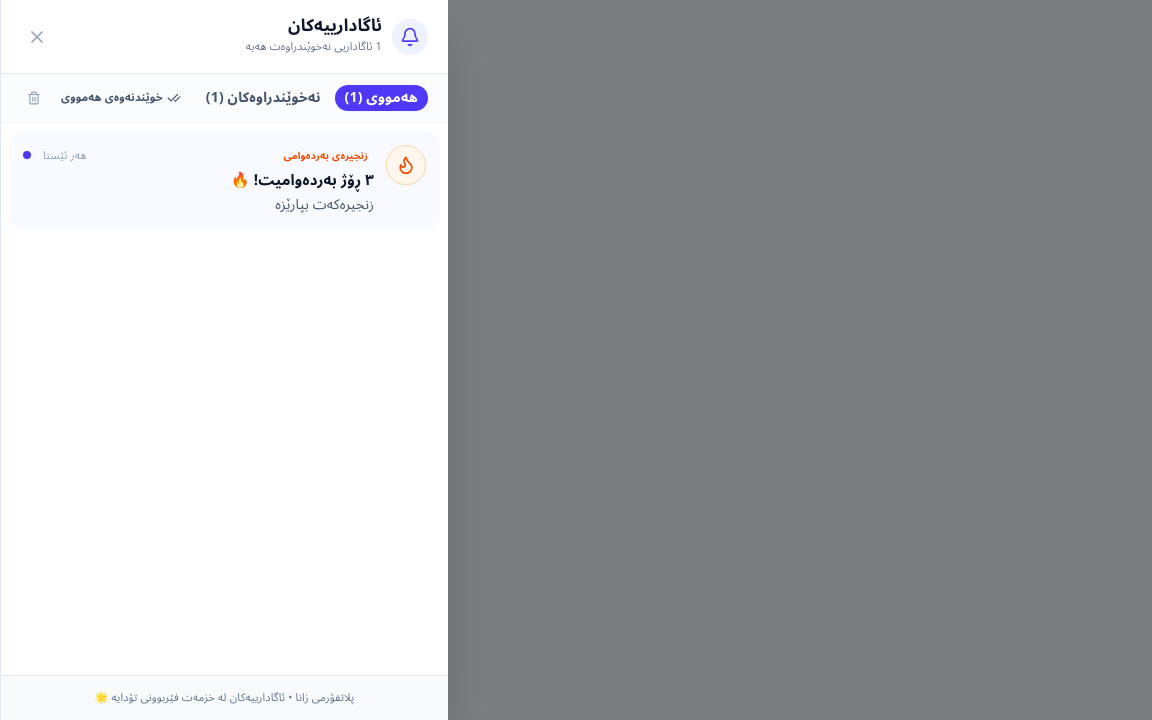
Test: ZANA Engagement UI Components › NotificationCenter Component › supports marking all notifications as read
The image size is (1152, 720).
Check: the heading "٣ ڕۆژ بەردەوامیت! 🔥" is shown, box x1=231 y1=164 x2=374 y2=196
Note: Mark all as read button
Click the button "خوێندنەوەی هەمووی" at (121, 98), box x1=53 y1=84 x2=189 y2=112
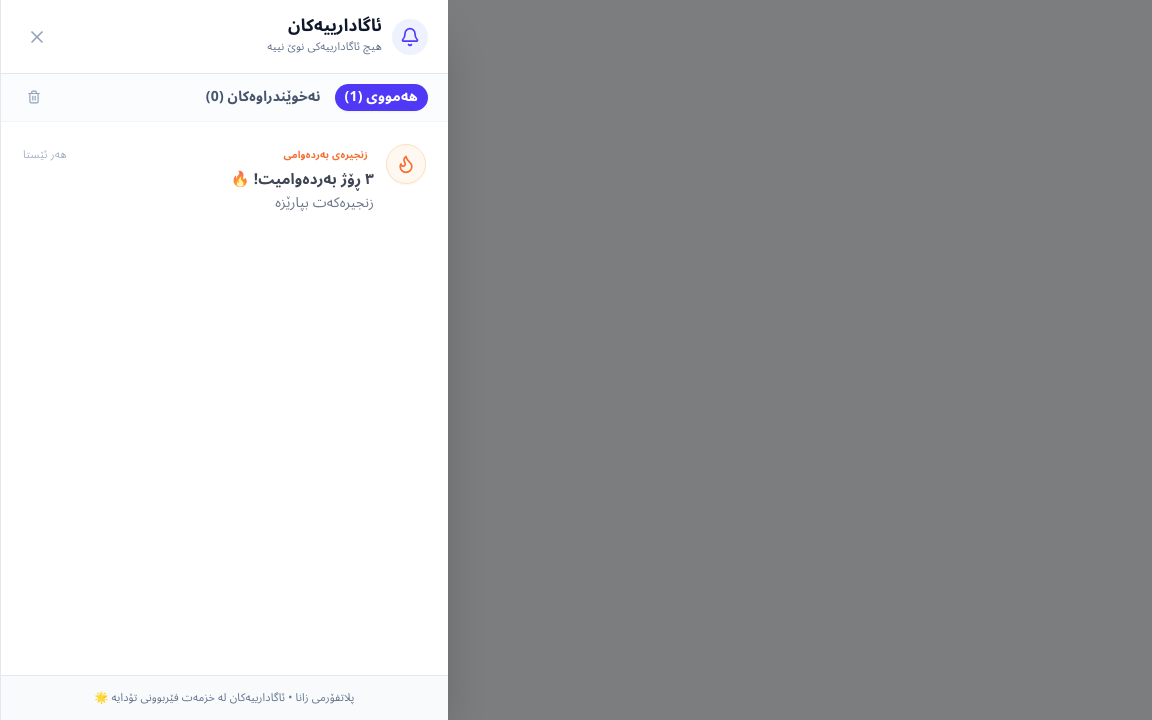
Check: the button "نەخوێندراوەکان (0)" is shown, box x1=196 y1=84 x2=330 y2=111
